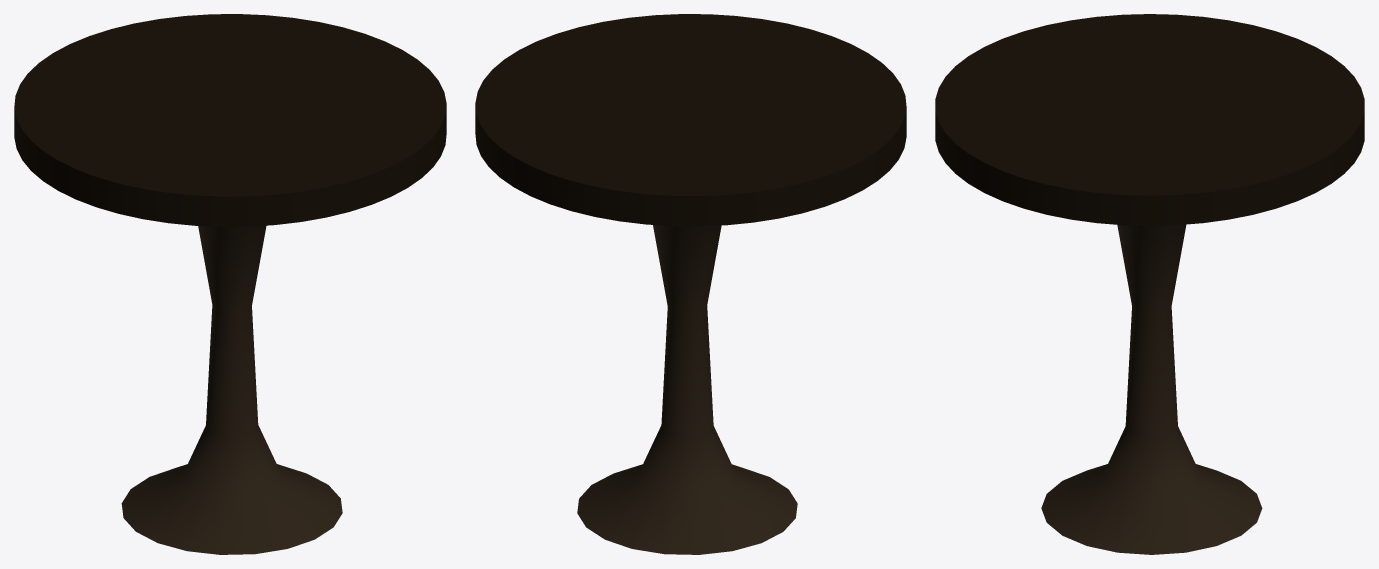
Rendered from Prop_sci_table2.FBX.
3 renders of one model, left to right at view 1: azimuth 30°, elevation 25°; view 2: azimuth 150°, elevation 25°; view 3: azimuth 270°, elevation 25°, orthographic.
Visible parts, largest first — view 1: Prop_sci_tab_c1, Prop_sci_tab_c2; view 2: Prop_sci_tab_c1, Prop_sci_tab_c2; view 3: Prop_sci_tab_c1, Prop_sci_tab_c2.
Part boxes in pixels (x1,y1,x2,y2): Prop_sci_tab_c1: (14, 14, 446, 226); Prop_sci_tab_c2: (121, 225, 342, 554); Prop_sci_tab_c1: (475, 14, 906, 226); Prop_sci_tab_c2: (577, 225, 797, 554); Prop_sci_tab_c1: (935, 14, 1364, 225); Prop_sci_tab_c2: (1041, 224, 1262, 554).
Bounding box in the file's own units: 25.18 × 25.98 × 25.13.
